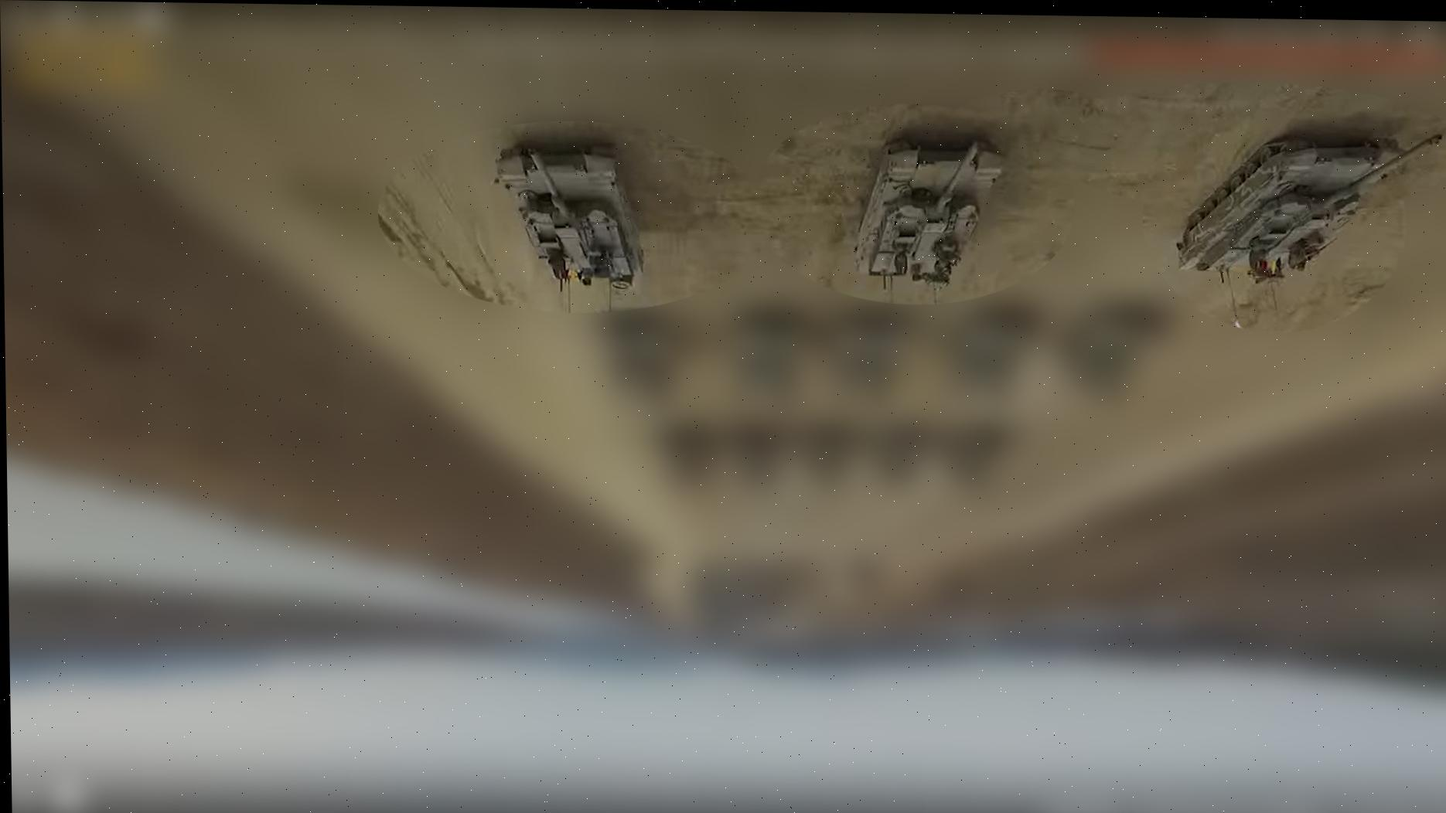tank: (1172, 121, 1445, 289), (482, 140, 648, 294), (846, 133, 996, 296)
